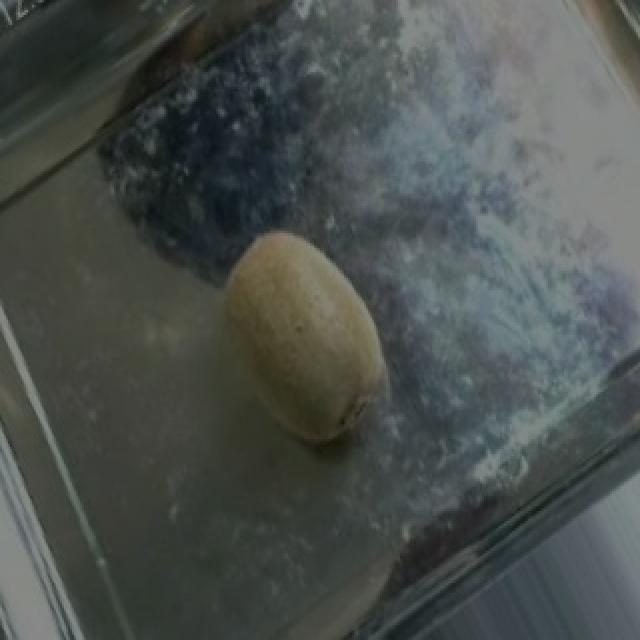Fruit: (184, 203, 418, 479)
